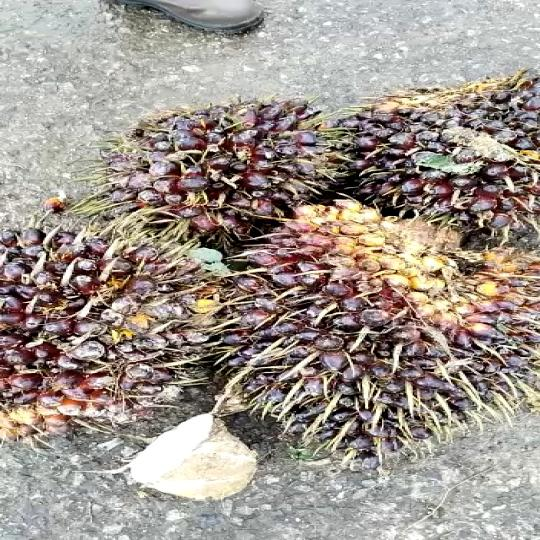kurang masak: (186, 194, 540, 464), (0, 215, 230, 458), (90, 95, 336, 237), (320, 71, 540, 213)
